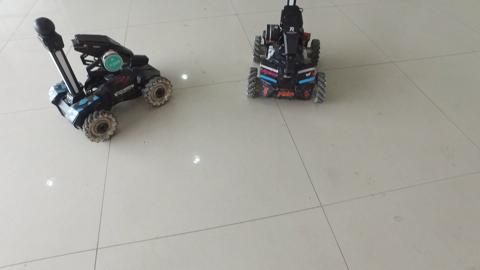chariot: (28, 12, 176, 143)
